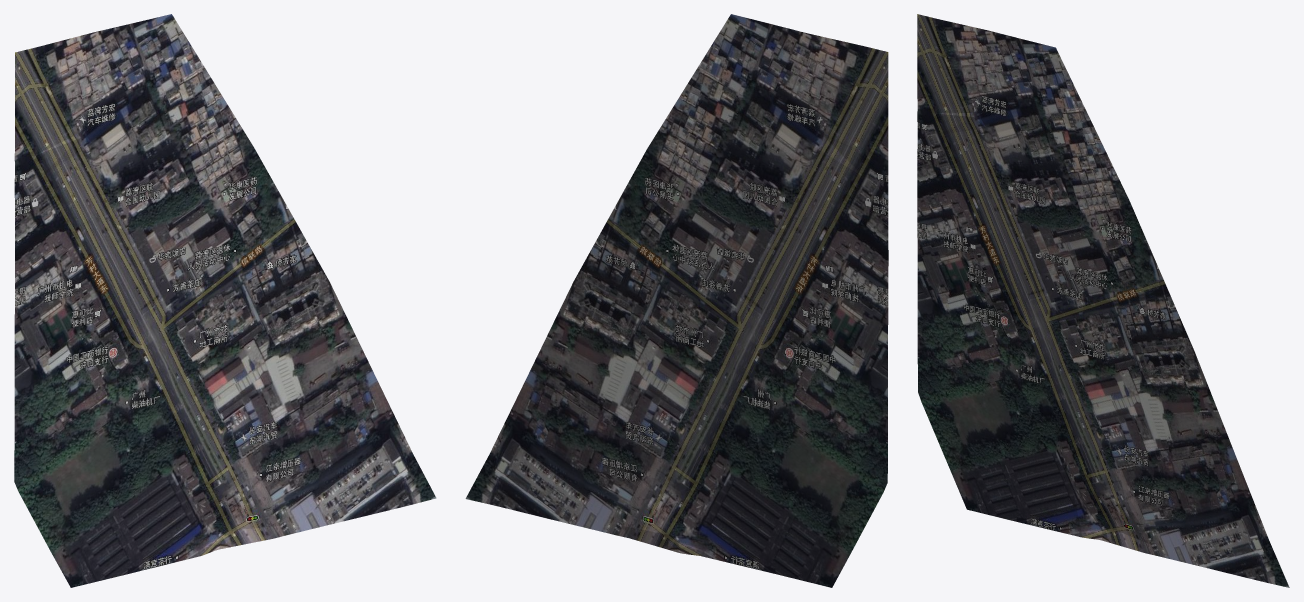
The picture shows the model from 3 angles, left to right: view 1: azimuth 30°, elevation 25°; view 2: azimuth 150°, elevation 25°; view 3: azimuth 330°, elevation 25°; orthographic projection. The views are drawn at different scales.
Visible parts, largest first — view 1: 0_3_0_2_0_2; view 2: 0_3_0_2_0_2; view 3: 0_3_0_2_0_2.
Part boxes in pixels (left/top/right/bottom): 0_3_0_2_0_2: left=14, top=14, right=436, bottom=587; 0_3_0_2_0_2: left=465, top=14, right=888, bottom=587; 0_3_0_2_0_2: left=917, top=14, right=1289, bottom=587.
Bounding box in the file's own units: 391 × 486 × 6.
Materials: 1 (1 with a texture image).
